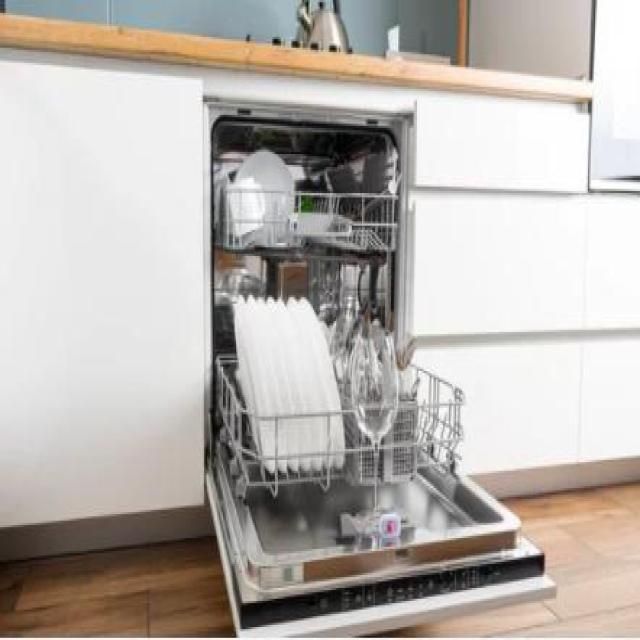dishwasher: (199, 71, 560, 640)
